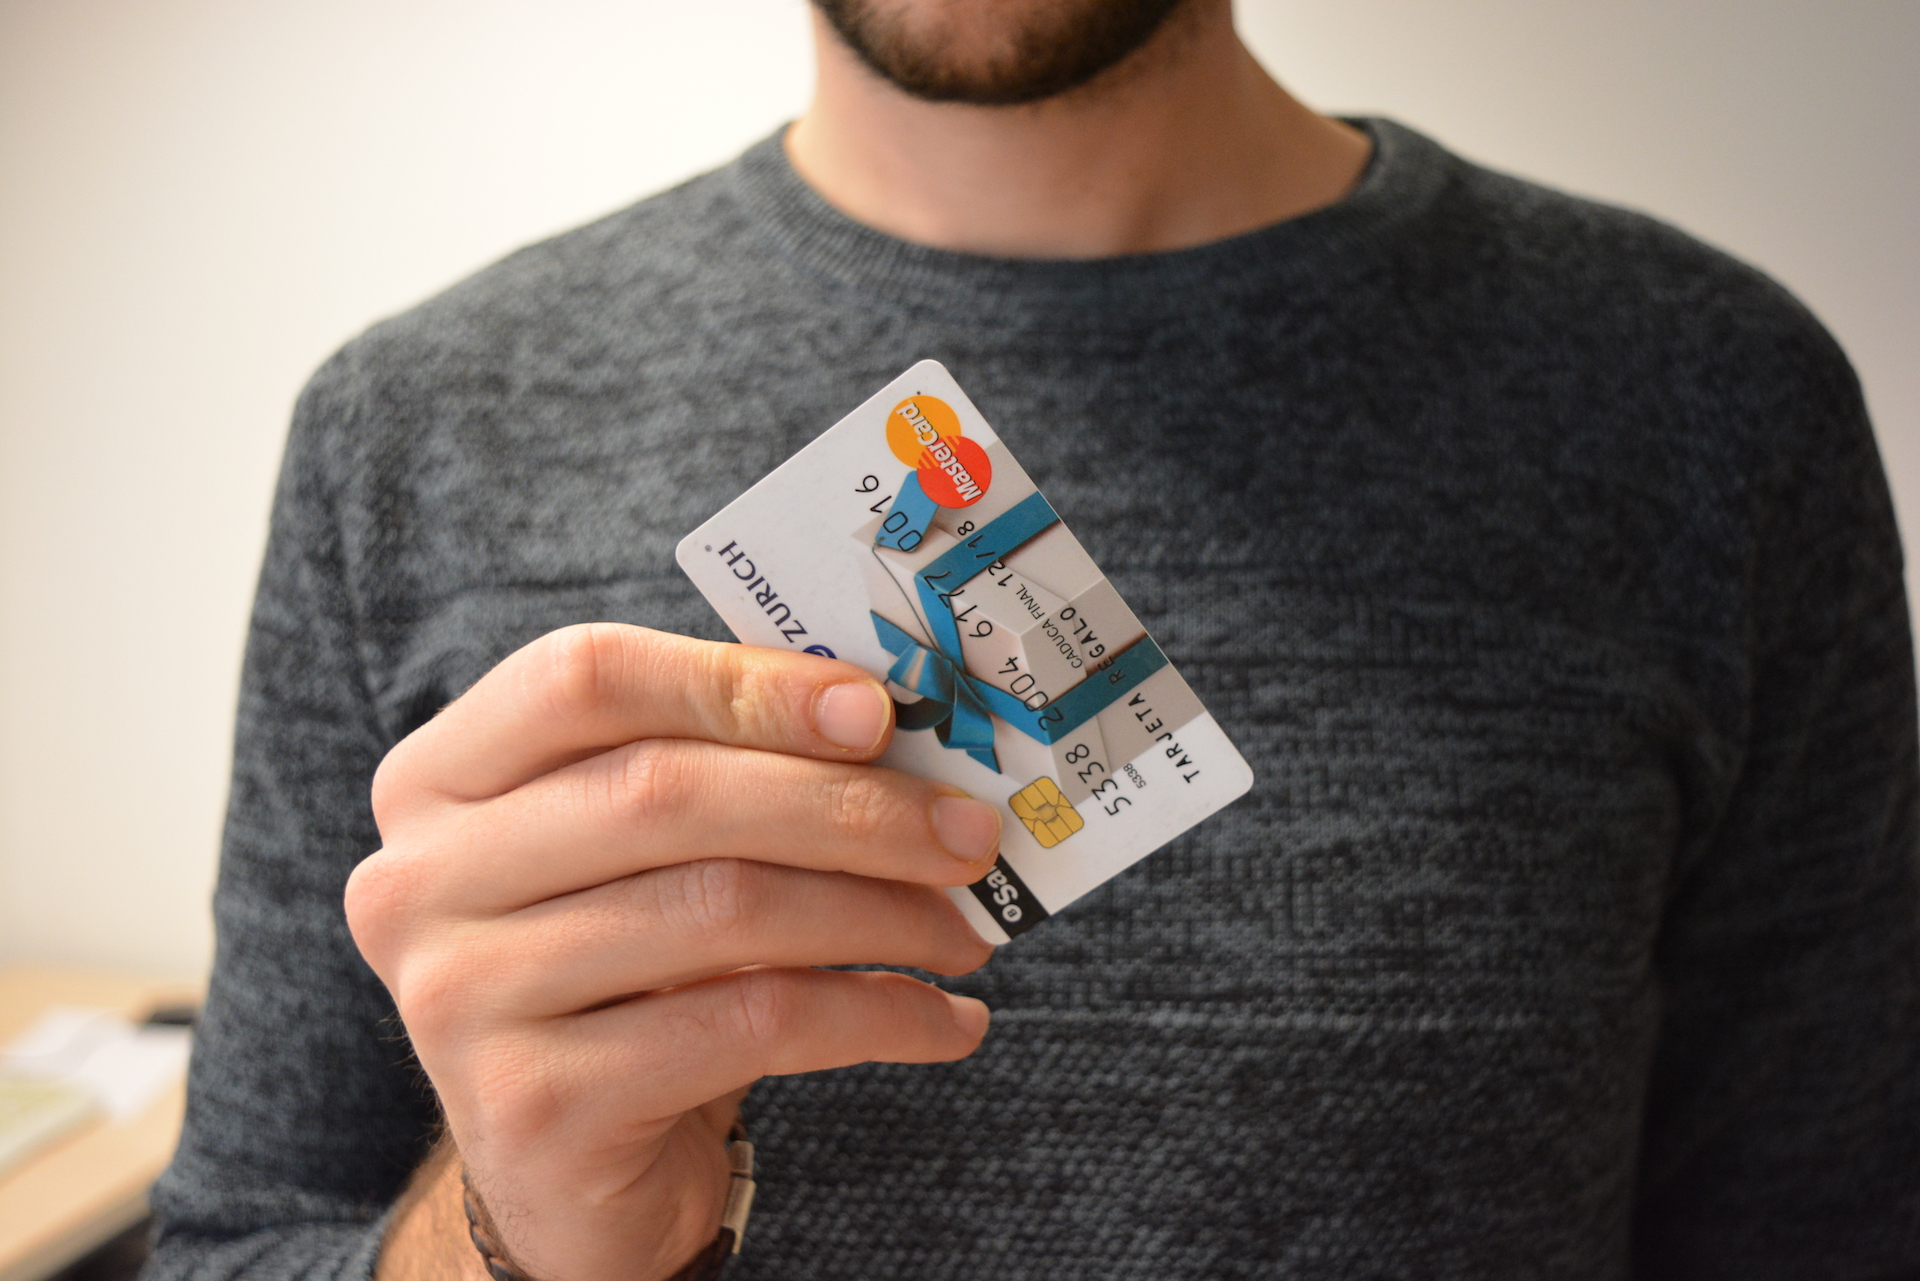tarjeta: (673, 356, 1260, 948)
